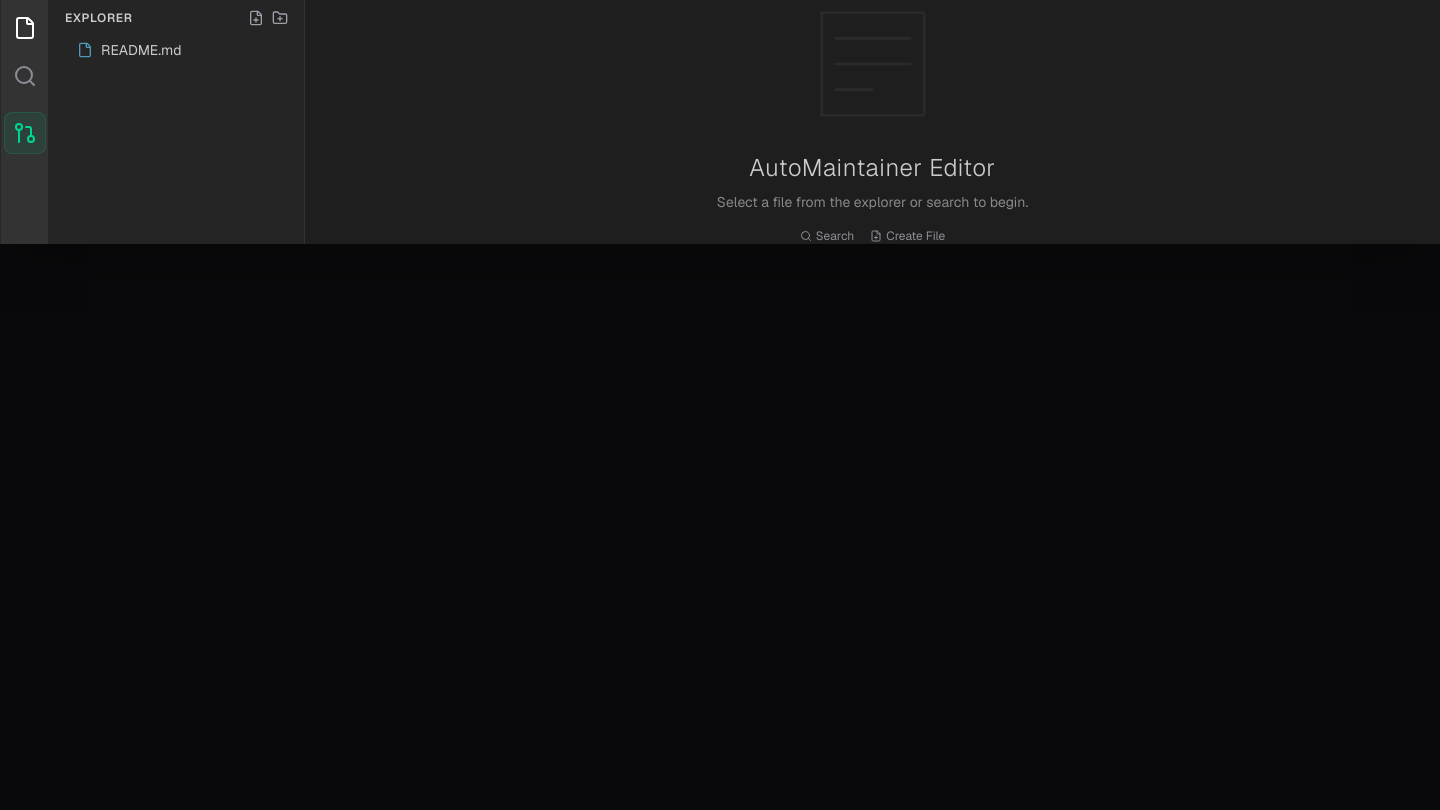
WebIDE › restores the staged list from the working branch after a reload (#505)
This screenshot has width=1440, height=810.
Later steps or results of the test are not shown.
# No tab is open: the sidebar's Propose button appears once restored.
Click the button named "propose changes": (24, 133) x1=4 y1=112 x2=46 y2=154
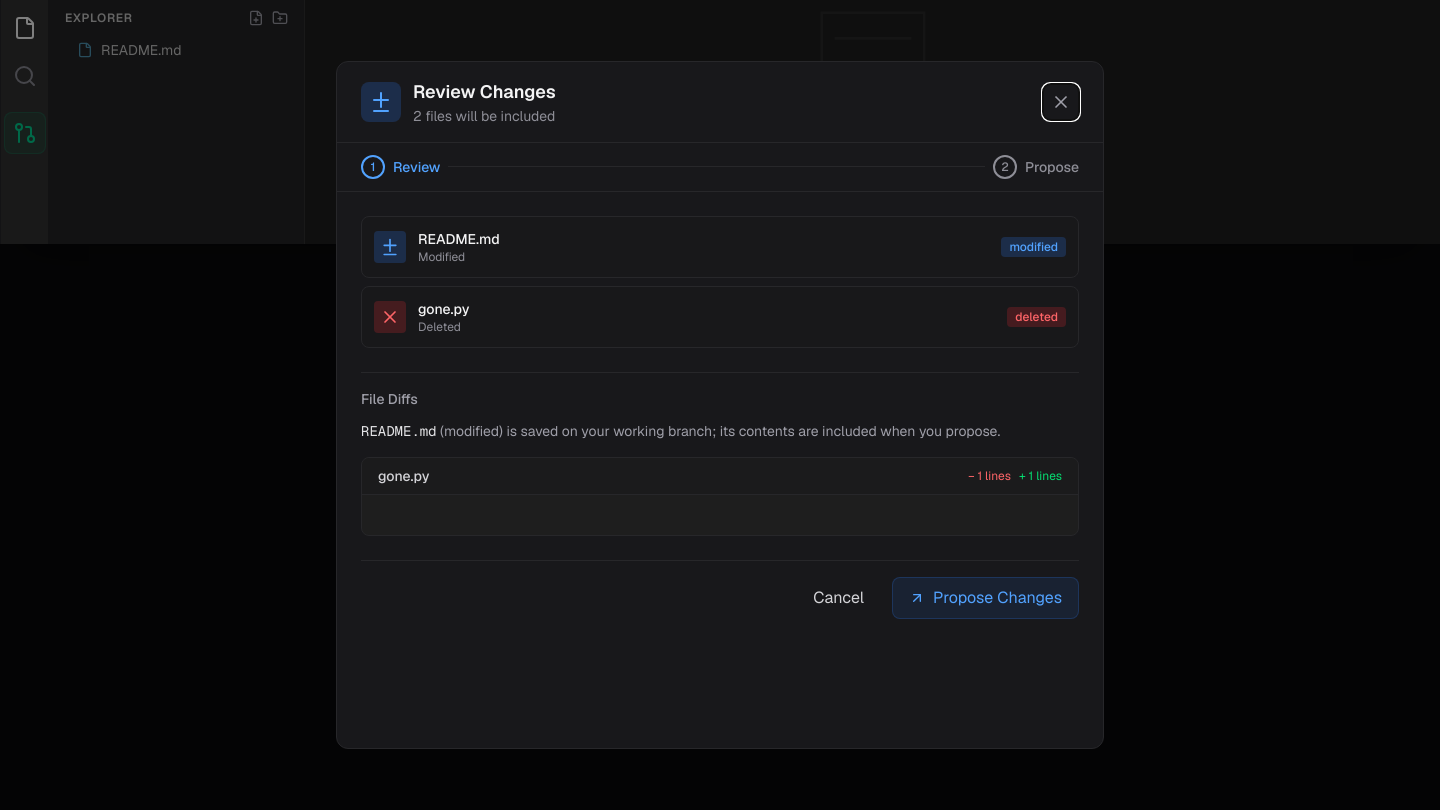
Expected: the dialog shows "gone.py", x1=418 y1=300 x2=470 y2=318
